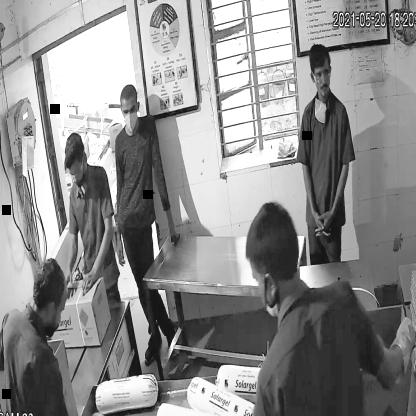goggles: (307, 66, 335, 84)
no_goggles: (121, 101, 140, 117)
